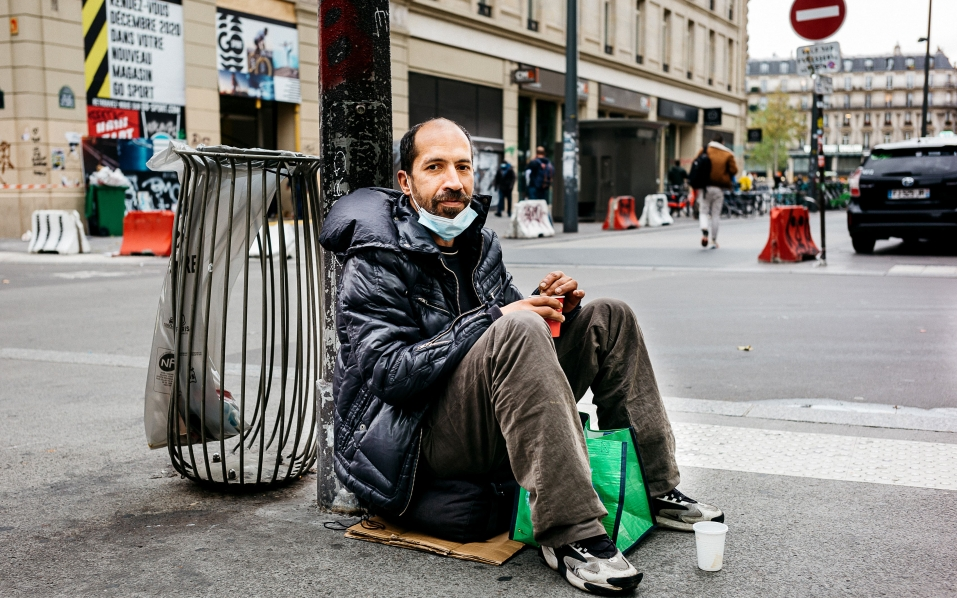with_incorrect_mask: (410, 148, 473, 231)
